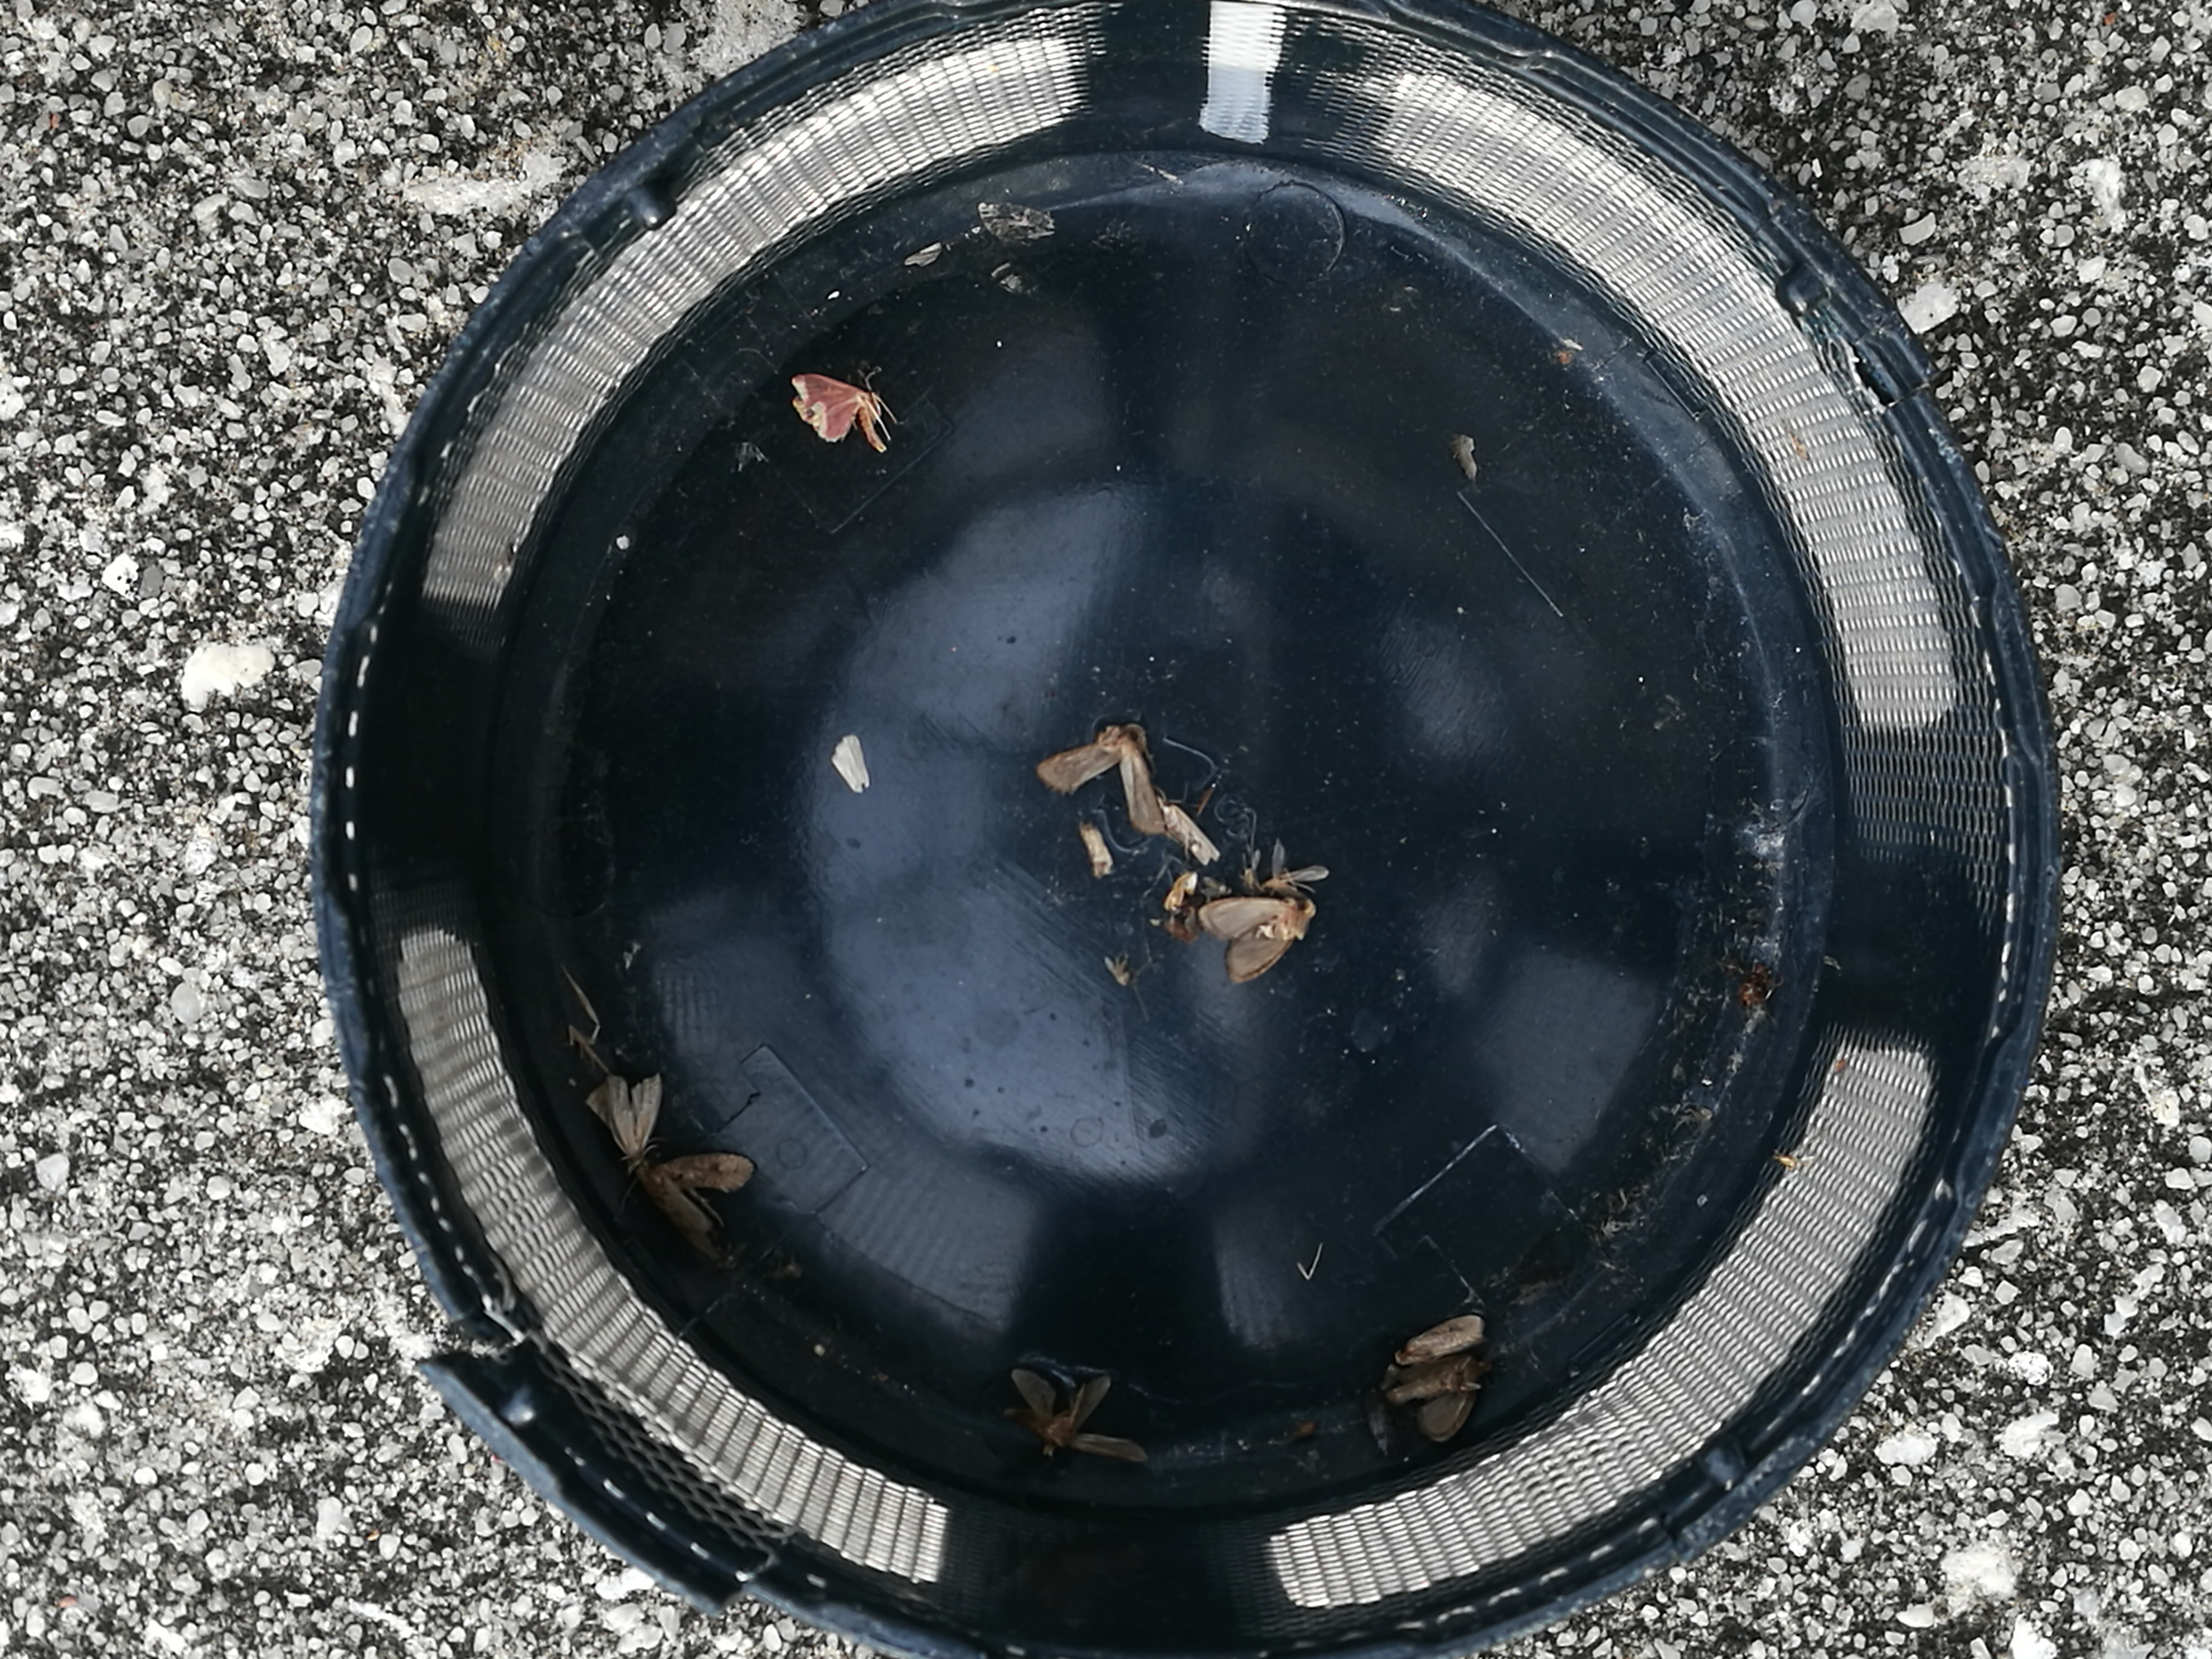mosquito: (1393, 1316, 1482, 1364), (1162, 803, 1217, 864)
moth: (1036, 727, 1160, 835), (1008, 1370, 1146, 1466), (634, 1155, 756, 1256), (1200, 897, 1315, 979), (1383, 1358, 1486, 1441), (794, 375, 883, 450), (608, 1075, 662, 1164)
